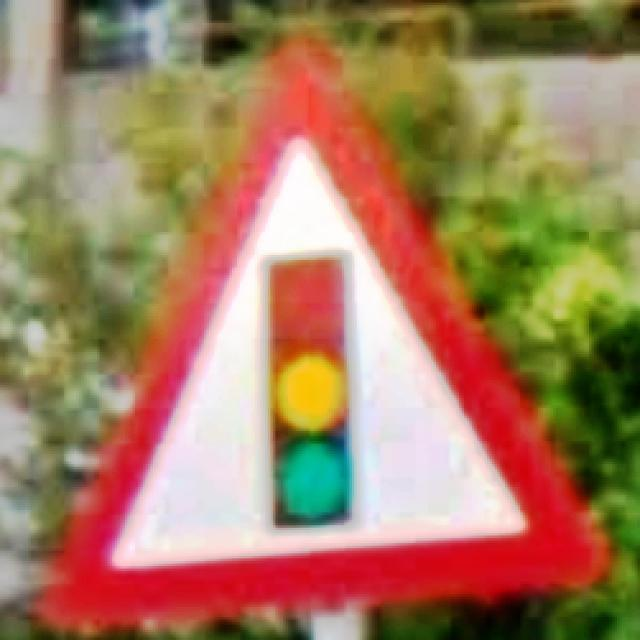signalahead: (51, 47, 604, 626)
